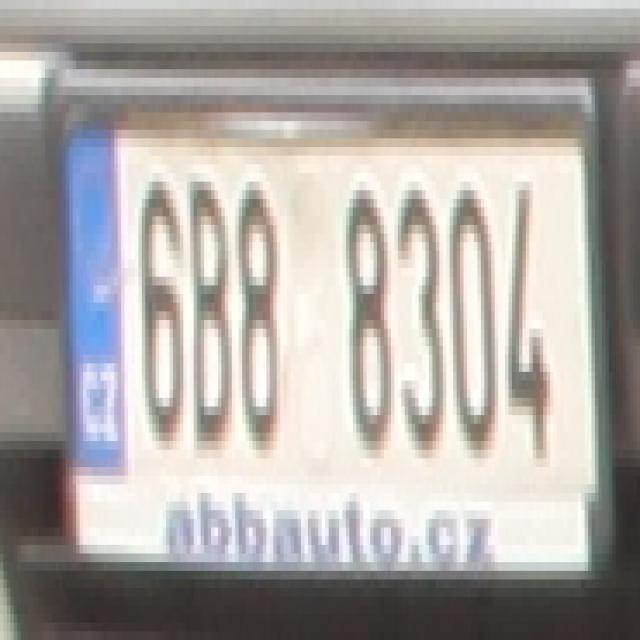0: (446, 182, 498, 450)
3: (398, 173, 443, 441)
4: (502, 173, 554, 476)
6: (132, 164, 184, 441)
8: (342, 182, 394, 450), (235, 164, 280, 441)
B: (190, 164, 232, 441)
